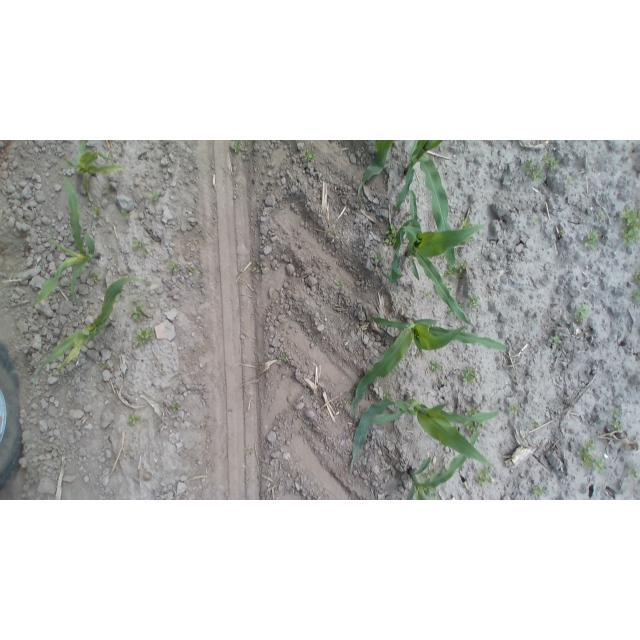Maize: (355, 313, 509, 413), (390, 174, 487, 328), (28, 276, 145, 387), (351, 398, 497, 476), (26, 178, 101, 311), (394, 140, 459, 268), (400, 428, 485, 501), (65, 140, 125, 202), (358, 141, 396, 208)
Weeds: (577, 438, 606, 473), (621, 207, 639, 246), (524, 159, 545, 182), (133, 327, 156, 346), (444, 262, 467, 279), (130, 300, 146, 322), (574, 304, 590, 325), (460, 365, 476, 385), (585, 231, 601, 250), (385, 224, 398, 247), (544, 154, 561, 171), (612, 408, 624, 432), (476, 467, 491, 486), (101, 184, 117, 201), (466, 423, 487, 435), (133, 238, 147, 255), (466, 293, 480, 310), (531, 483, 547, 497), (430, 360, 443, 374), (148, 191, 162, 204), (126, 415, 142, 426), (425, 488, 440, 499), (304, 149, 316, 162), (552, 333, 563, 347), (460, 219, 474, 230), (505, 404, 519, 415), (91, 205, 101, 220), (230, 141, 242, 153), (467, 405, 481, 415), (91, 271, 102, 283), (384, 389, 396, 400), (596, 210, 606, 222), (373, 253, 383, 265), (171, 402, 181, 413), (565, 175, 575, 186), (170, 262, 180, 273), (251, 264, 262, 274), (122, 208, 131, 220), (246, 445, 255, 456), (633, 291, 640, 304), (633, 271, 640, 284), (629, 470, 639, 479), (279, 353, 288, 363), (187, 268, 197, 277), (423, 290, 434, 298), (424, 472, 435, 480), (301, 426, 310, 435), (334, 277, 342, 287), (468, 235, 476, 245), (531, 420, 540, 428), (342, 398, 350, 406), (101, 362, 108, 371), (534, 216, 541, 225), (559, 228, 565, 238)
